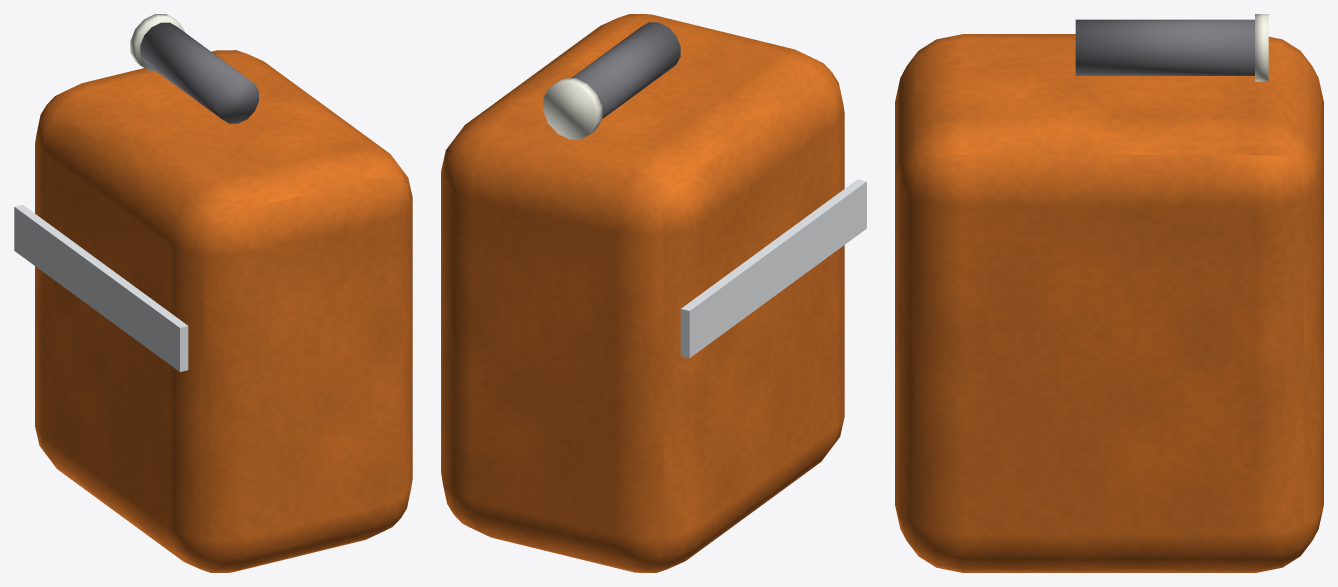
The model's file is escena.casa.mochila_emergencia.fbx.
3 views of the same model, side by side, from view 1: azimuth 30°, elevation 25°; view 2: azimuth 150°, elevation 25°; view 3: azimuth 270°, elevation 25° (orthographic). The views are drawn at different scales.
Parts seen in each view (by area): view 1: Mochila, Franja, Linterna, Vidrio; view 2: Mochila, Franja, Linterna, Vidrio; view 3: Mochila, Linterna, Vidrio.
Boxes of the visible parts, x1,y1,x2,y2 form: Mochila: (35, 50, 412, 572); Franja: (14, 204, 188, 371); Linterna: (140, 22, 258, 123); Vidrio: (130, 14, 185, 71); Mochila: (441, 14, 844, 572); Franja: (680, 179, 866, 358); Linterna: (571, 22, 680, 118); Vidrio: (543, 78, 602, 139); Mochila: (895, 34, 1323, 572); Linterna: (1075, 19, 1254, 75); Vidrio: (1255, 14, 1268, 81).
Bounding box in the file's own units: 0.29 × 0.5 × 0.38.
Materials: 4 (1 with a texture image).
